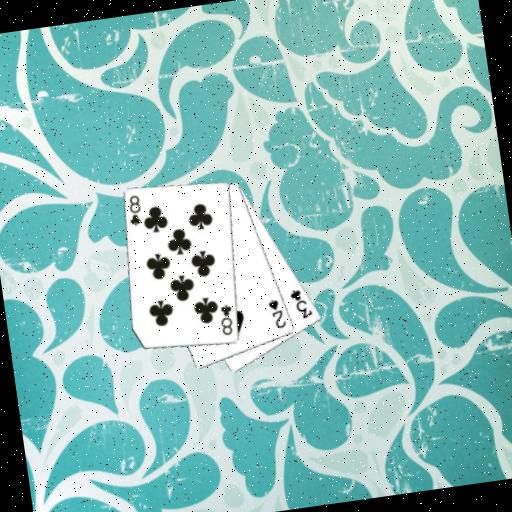2S: (265, 295, 289, 331)
3C: (286, 285, 315, 323)
8C: (215, 301, 237, 338), (123, 192, 145, 229)
